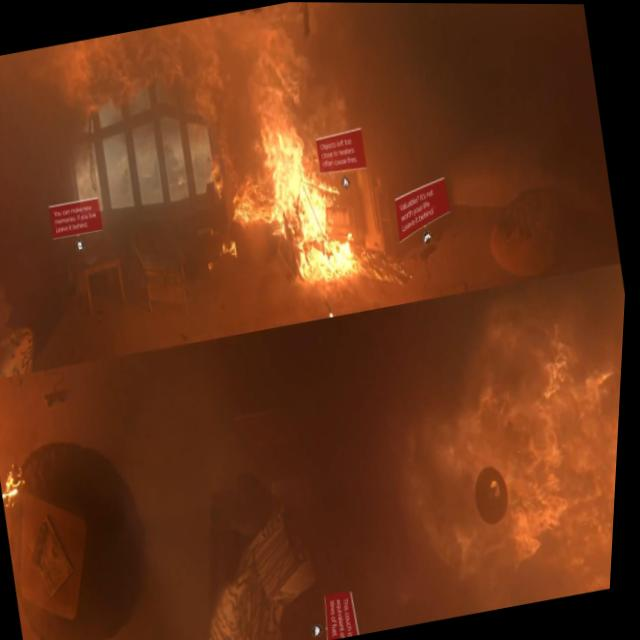fire: (201, 51, 416, 308), (1, 458, 35, 506)
